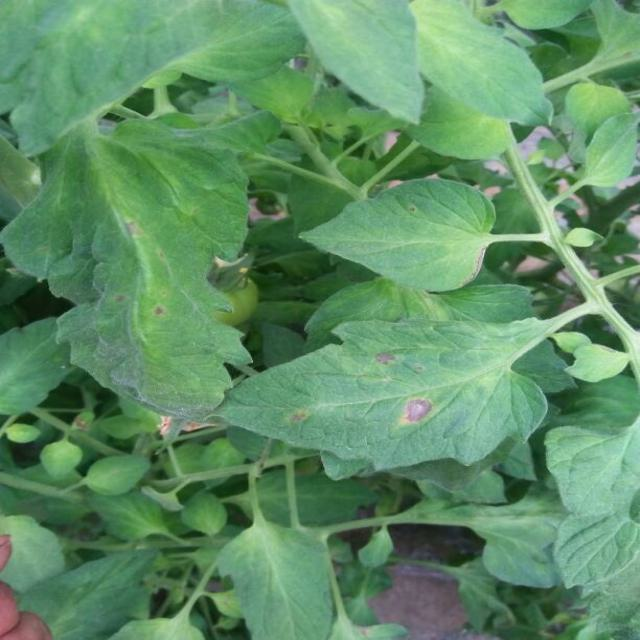Early_blight: (401, 392, 435, 423), (374, 348, 397, 368)
